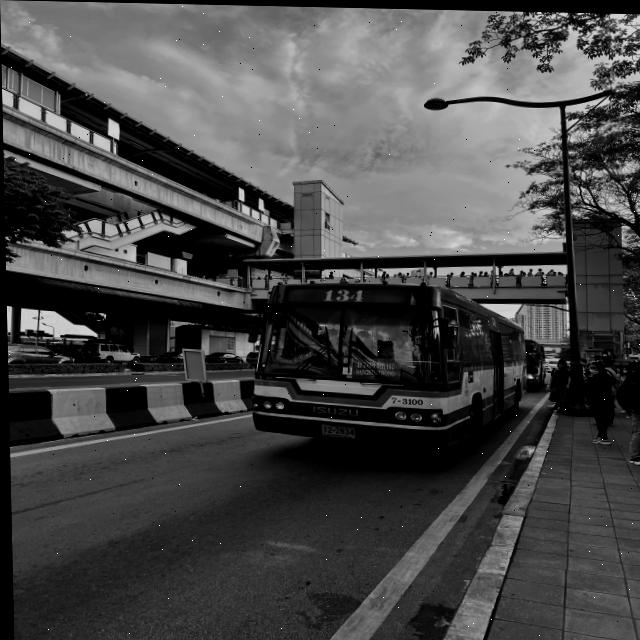BMTA-bus: (244, 278, 524, 451), (523, 338, 547, 386)
Bus-Line-Number: (311, 283, 375, 304)
Destination-Sign-Normal: (352, 357, 399, 379)
